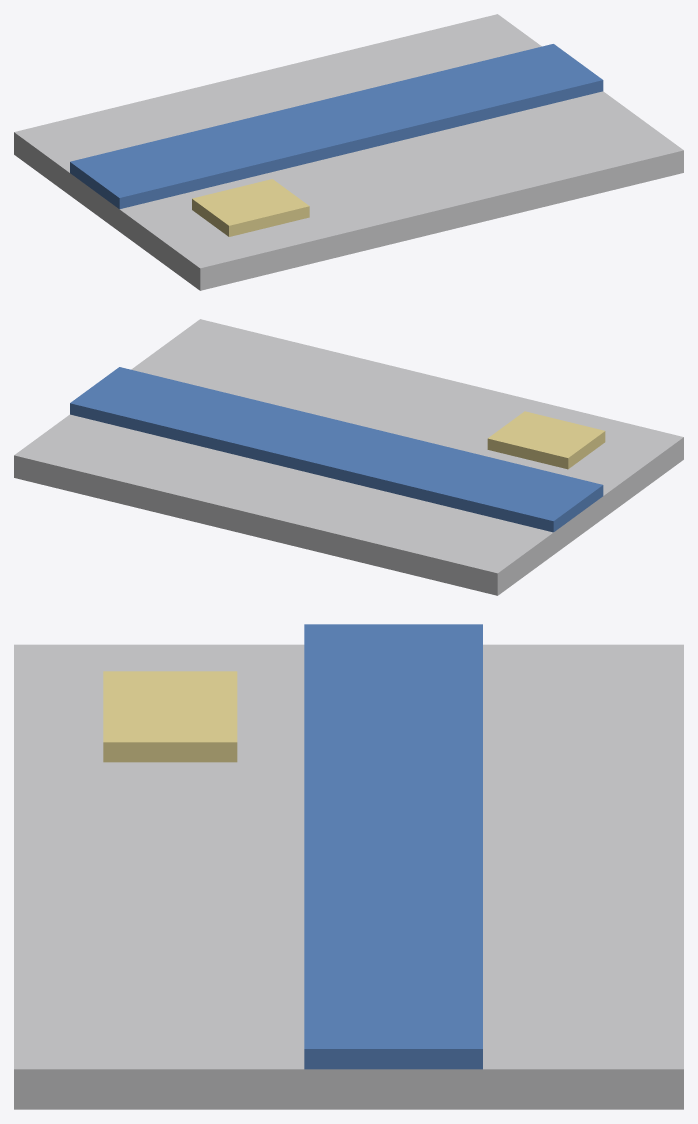
The model's file is keycard.gltf.
3 renders of one model, top to bottom at view 1: azimuth 30°, elevation 25°; view 2: azimuth 150°, elevation 25°; view 3: azimuth 270°, elevation 25°, orthographic. The views are drawn at different scales.
Visible parts, largest first — view 1: keycard; view 2: keycard; view 3: keycard.
Boxes of the visible parts, box(x1,y1,x2,y2) form: keycard: box(14, 14, 683, 290); keycard: box(14, 319, 683, 595); keycard: box(14, 624, 683, 1109).
Bounding box in the file's own units: 0.09 × 0.006 × 0.06.
